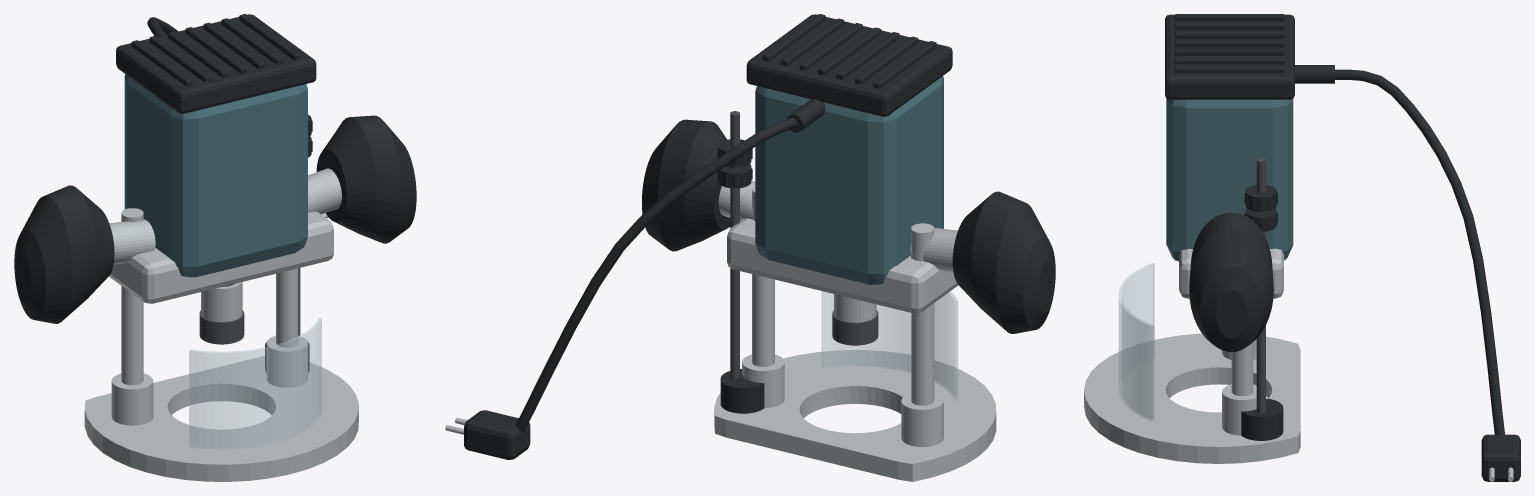
The model's file is full.fbx.
The picture shows the model from 3 angles, left to right: view 1: azimuth 30°, elevation 25°; view 2: azimuth 150°, elevation 25°; view 3: azimuth 270°, elevation 25°; orthographic projection. The views are drawn at different scales.
Visible parts, largest first — view 1: Tall rounded motor housing, D base with circular opening, Curved front chip guard, Curved side palm grip -1, Curved side palm grip 1, Flat ribbed top cover, Raised motor carriage, Plunge guide column -1, Column base socket -1, Column base socket 1, Plunge guide column 1, Grip mounting neck -1 (+10 smaller); view 2: Tall rounded motor housing, D base with circular opening, Curved side palm grip -1, Flat ribbed top cover, Curved side palm grip 1, Raised motor carriage, Curved front chip guard, Complete generic cord, Plunge guide column -1, Generic complete plug, Plunge guide column 1, Column base socket -1 (+15 smaller); view 3: D base with circular opening, Tall rounded motor housing, Curved side palm grip 1, Flat ribbed top cover, Curved front chip guard, Complete generic cord, Generic complete plug, Small rotary stop, Threadlike depth stop rod, Column base socket 1, Raised motor carriage, Plunge guide column 1 (+9 smaller).
Part boxes in pixels (<box>): Tall rounded motor housing: <box>124,74,307,277</box>; D base with circular opening: <box>84,356,358,481</box>; Curved front chip guard: <box>189,318,321,449</box>; Curved side palm grip -1: <box>14,185,114,323</box>; Curved side palm grip 1: <box>316,115,416,243</box>; Flat ribbed top cover: <box>116,14,316,113</box>; Raised motor carriage: <box>109,211,333,303</box>; Plunge guide column -1: <box>121,208,143,385</box>; Column base socket -1: <box>111,373,153,425</box>; Column base socket 1: <box>266,335,307,387</box>; Plunge guide column 1: <box>276,268,298,347</box>; Grip mounting neck -1: <box>109,219,155,264</box>; Tall rounded motor housing: <box>755,76,943,284</box>; D base with circular opening: <box>714,350,996,481</box>; Curved side palm grip -1: <box>952,191,1055,333</box>; Flat ribbed top cover: <box>746,14,952,116</box>; Curved side palm grip 1: <box>642,119,730,251</box>; Raised motor carriage: <box>727,218,958,313</box>; Curved front chip guard: <box>822,291,957,400</box>; Complete generic cord: <box>515,118,797,432</box>; Plunge guide column -1: <box>911,223,934,405</box>; Generic complete plug: <box>464,410,530,459</box>; Plunge guide column 1: <box>752,186,774,366</box>; Column base socket -1: <box>901,393,943,446</box>; D base with circular opening: <box>1084,333,1300,463</box>; Tall rounded motor housing: <box>1166,99,1293,261</box>; Curved side palm grip 1: <box>1189,212,1273,352</box>; Flat ribbed top cover: <box>1165,14,1294,99</box>; Curved front chip guard: <box>1119,263,1154,421</box>; Complete generic cord: <box>1335,69,1504,435</box>; Generic complete plug: <box>1481,434,1520,481</box>; Small rotary stop: <box>1241,398,1283,440</box>; Threadlike depth stop rod: <box>1256,158,1265,413</box>; Column base socket 1: <box>1222,384,1256,435</box>; Raised motor carriage: <box>1179,248,1283,298</box>; Plunge guide column 1: <box>1231,342,1253,396</box>.
Size of the model in its own units: 31.9 by 25.75 by 27.85.
